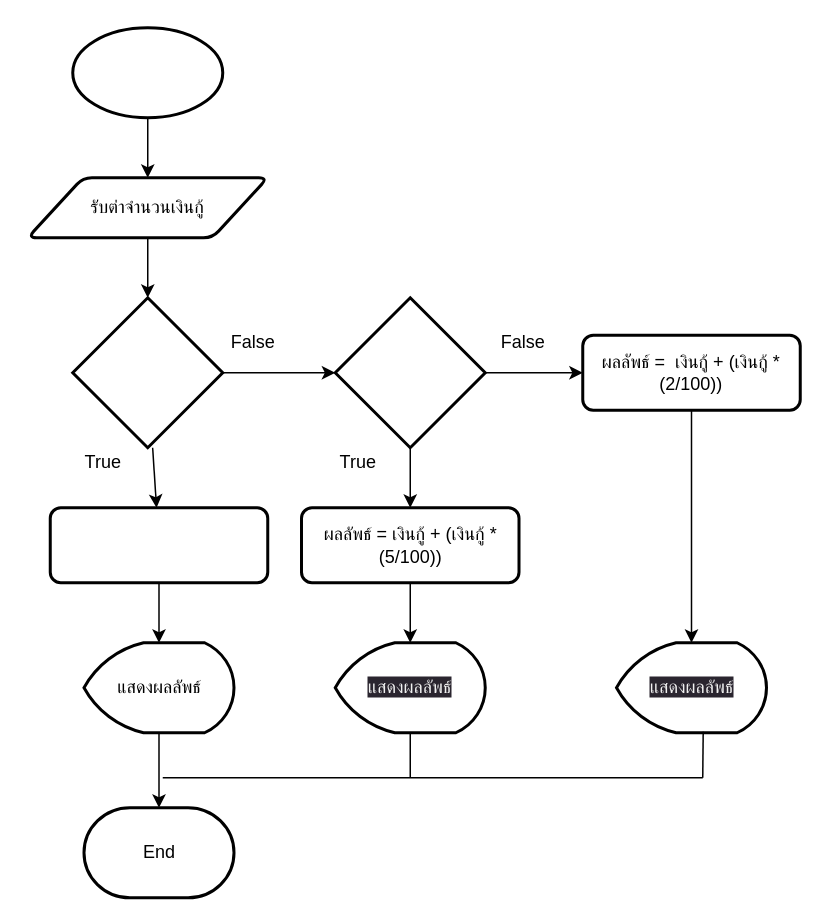
The diagram is 827 pixels wide and 924 high, and some of its shapes have lost their labels. Each missing label, with the box of its shape:
if เงินกู้ <= 1000: (70, 296, 224, 448)
if เงินกู้ <= 10000: (333, 296, 486, 448)
Start: (70, 26, 224, 118)
ผลลัพธ์ = เงินกู้ + (เงินกู้ * (10/100)): (48, 506, 268, 584)
